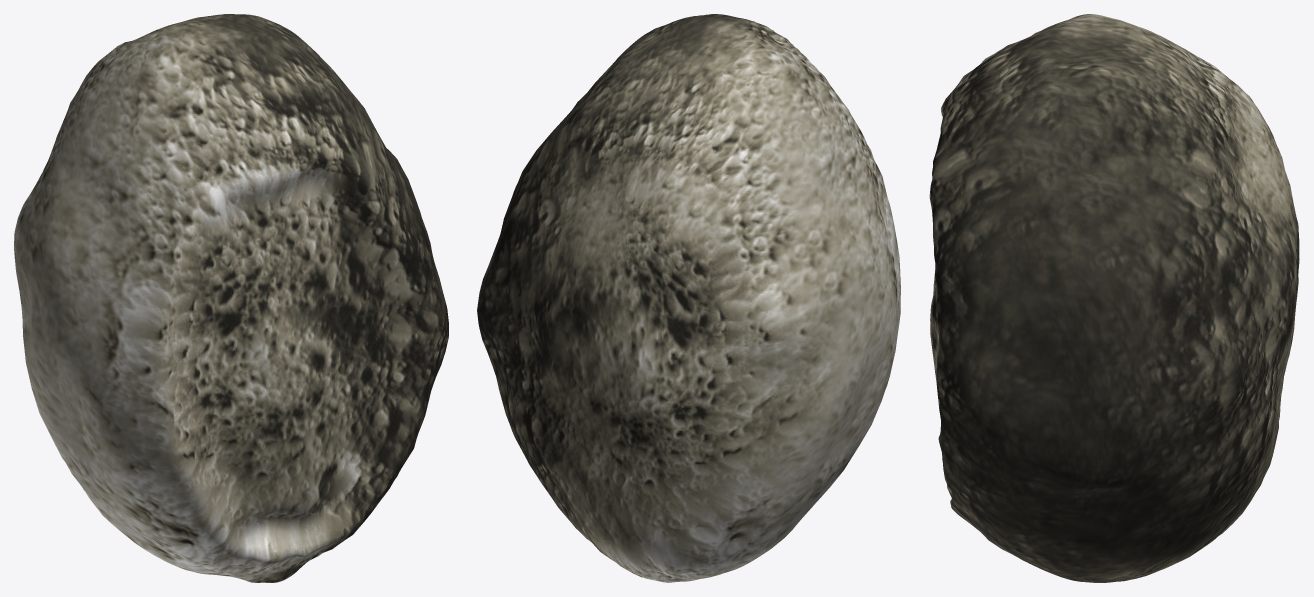
Rendered from hyperion.glb.
3 views of the same model, side by side, from view 1: azimuth 30°, elevation 25°; view 2: azimuth 150°, elevation 25°; view 3: azimuth 270°, elevation 25° (orthographic). The views are drawn at different scales.
Visible parts, largest first — view 1: Hyperion; view 2: Hyperion; view 3: Hyperion.
Part boxes in pixels (left/top/right/bottom): Hyperion: left=14, top=14, right=448, bottom=582; Hyperion: left=477, top=14, right=900, bottom=582; Hyperion: left=929, top=14, right=1299, bottom=582.
Bounding box in the file's own units: 1.02 × 1.45 × 0.9271.
Materials: 1 (1 with a texture image).
